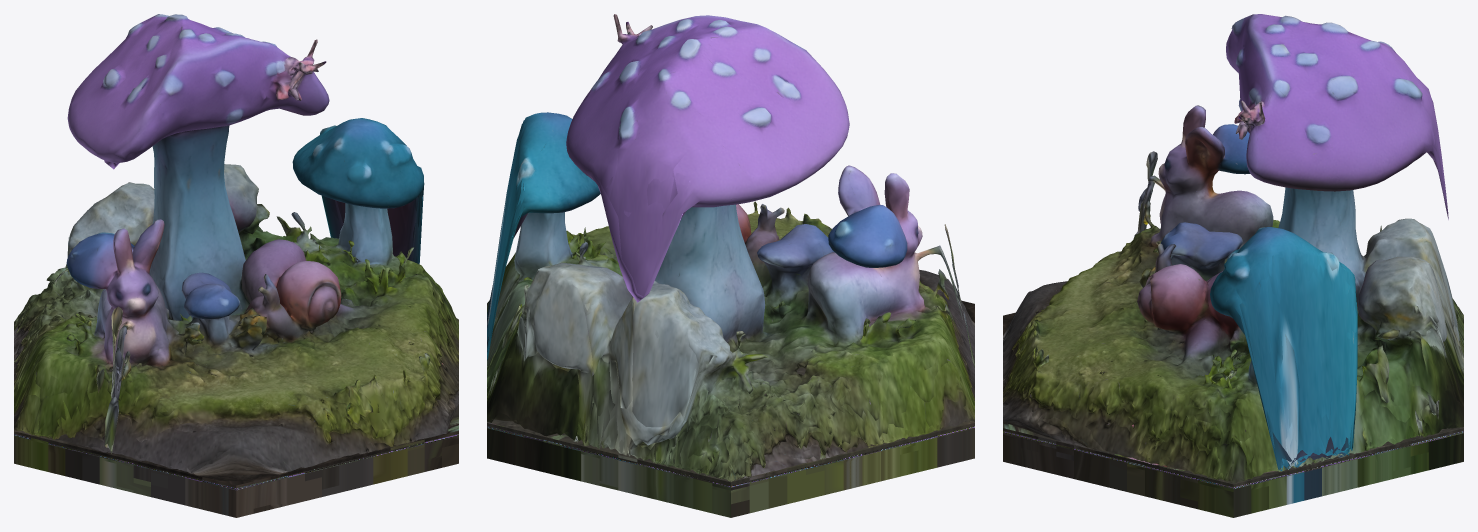
The model's file is hex_dream_menagerie.glb.
3 views of the same model, side by side, from view 1: azimuth 30°, elevation 25°; view 2: azimuth 150°, elevation 25°; view 3: azimuth 270°, elevation 25° (orthographic). The views are drawn at different scales.
Visible parts, largest first — view 1: hex_dream_menagerie_s7_fit; view 2: hex_dream_menagerie_s7_fit; view 3: hex_dream_menagerie_s7_fit.
Boxes of the visible parts, box(x1,y1,x2,y2) form: hex_dream_menagerie_s7_fit: box(14, 14, 458, 517); hex_dream_menagerie_s7_fit: box(487, 14, 974, 517); hex_dream_menagerie_s7_fit: box(1003, 14, 1463, 517).
Size of the model in its own units: 5.11 by 3.98 by 4.42.
Materials: 1 (1 with a texture image).
